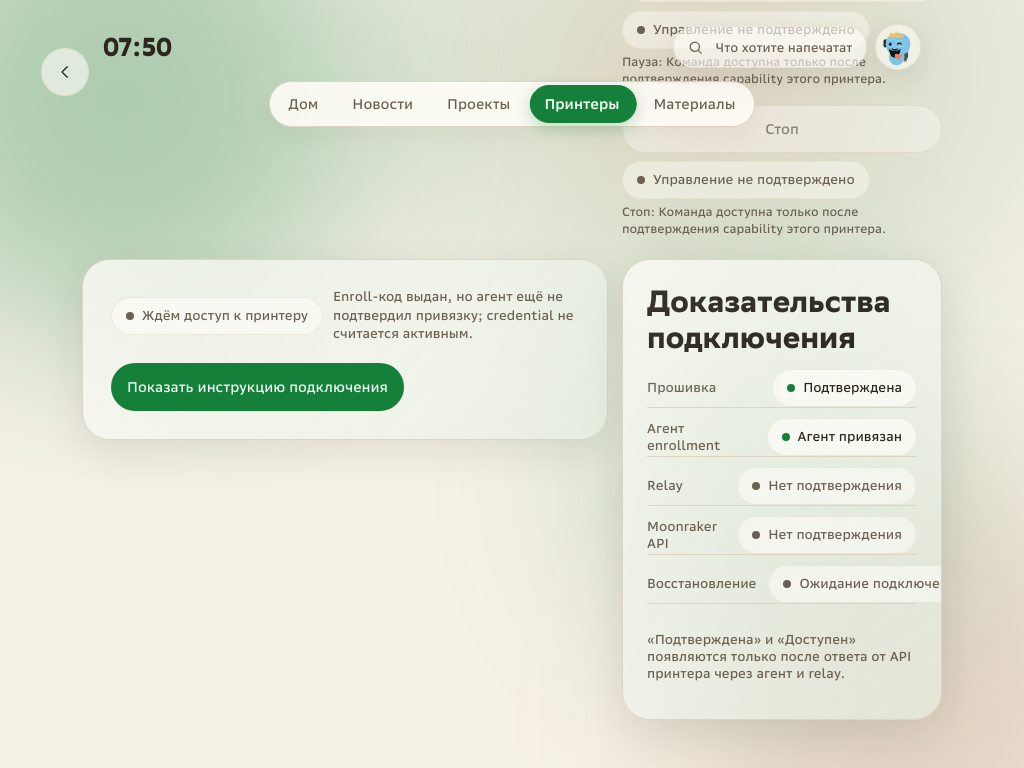
Test case: MF-1665: матрица шести состояний подключения › awaiting-access: показывает безопасный ожидаемый результат действия
The width and height of the screenshot is (1024, 768).
(page scrolled)
Click the button "Показать инструкцию подключения".
click(257, 387)  # box left=111, top=363, right=404, bottom=411
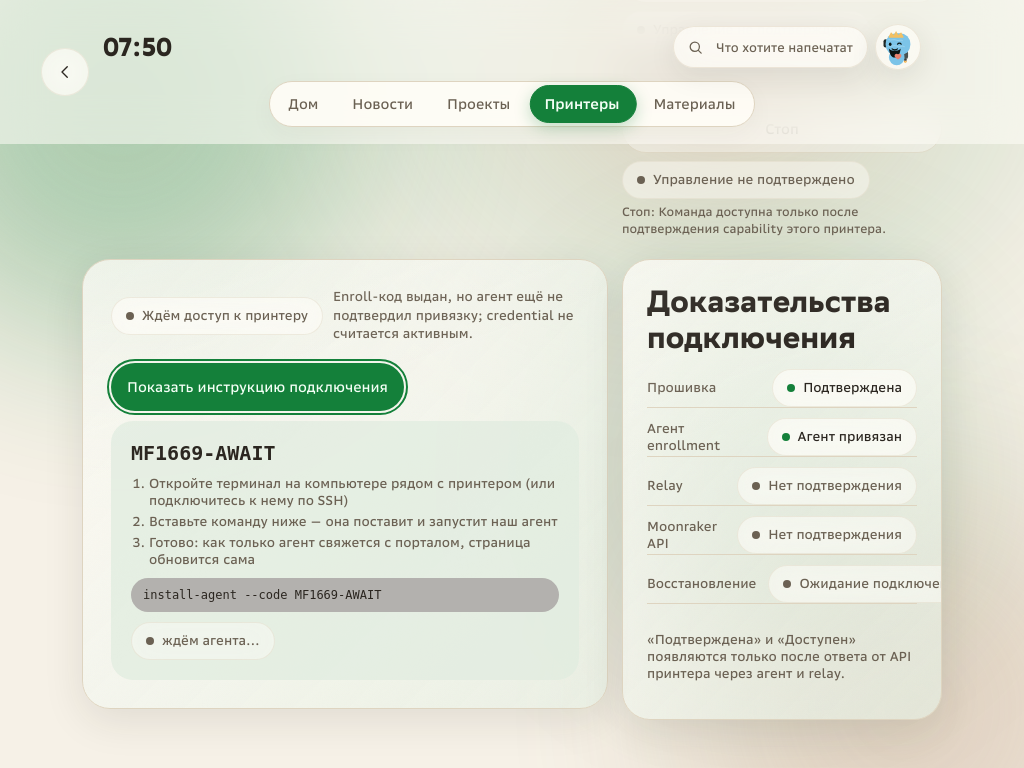
Expected: the text "MF1669-AWAIT" is shown, left=131, top=441, right=276, bottom=465
